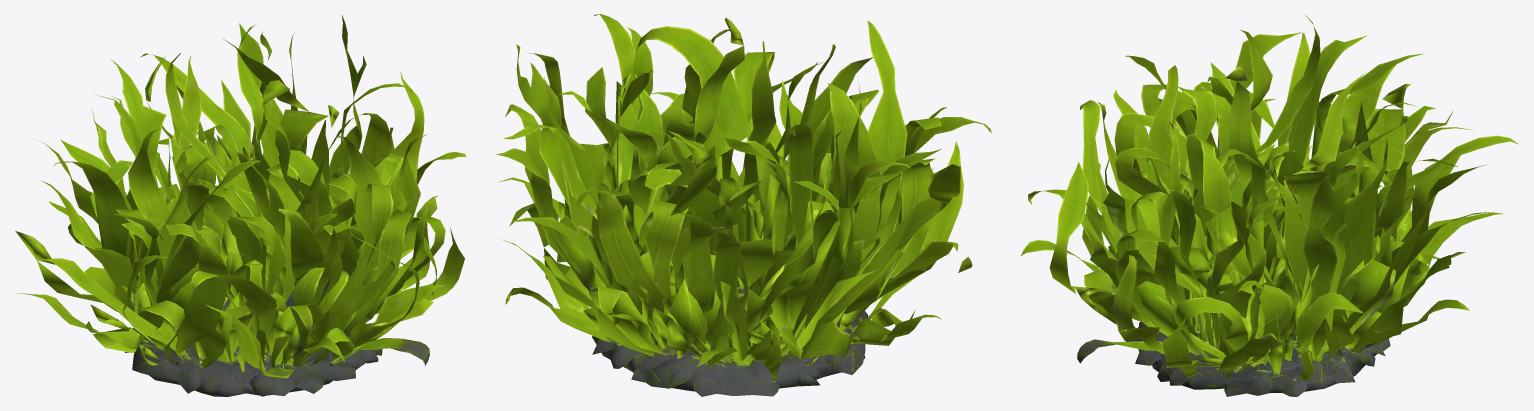
The model's file is AquaticPlant.glb.
3 views of the same model, side by side, from view 1: azimuth 30°, elevation 25°; view 2: azimuth 150°, elevation 25°; view 3: azimuth 270°, elevation 25° (orthographic). The views are drawn at different scales.
Size of the model in its own units: 0.958 by 0.6396 by 0.9536.
1 material, 1 textured.
